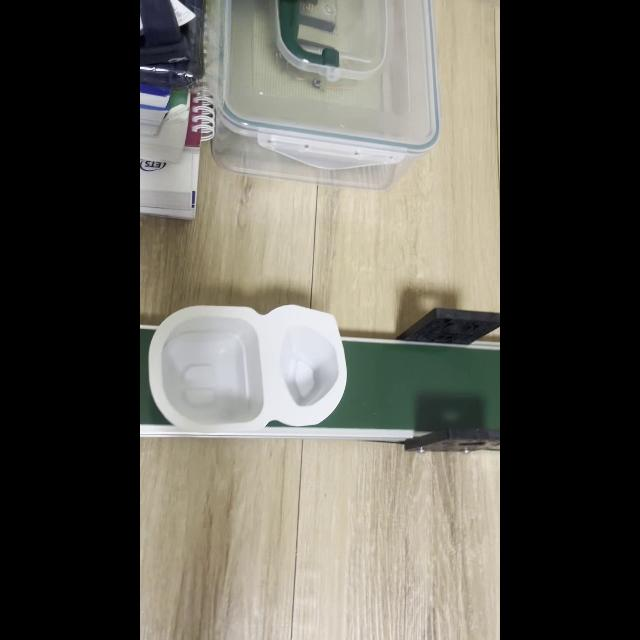clean: (156, 318, 340, 420)
